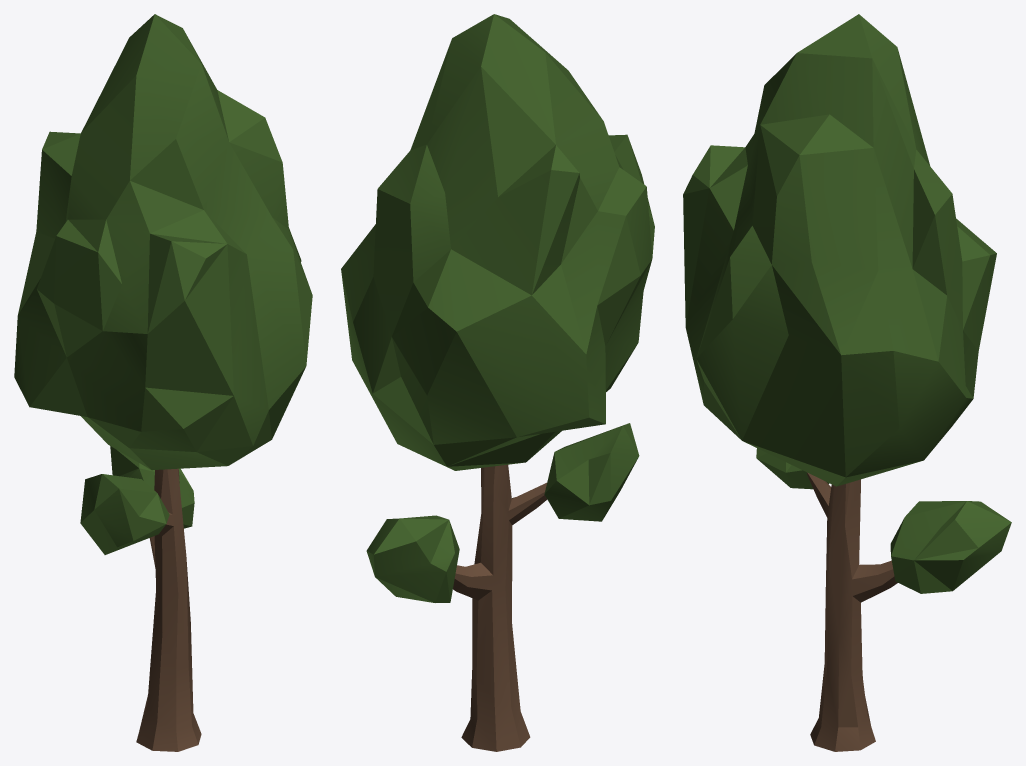
The model's file is BroadleafC.fbx.
3 renders of one model, left to right at view 1: azimuth 30°, elevation 25°; view 2: azimuth 150°, elevation 25°; view 3: azimuth 270°, elevation 25°, orthographic.
Parts seen in each view (by area): view 1: BroadleafC; view 2: BroadleafC; view 3: BroadleafC.
Boxes of the visible parts, x1,y1,x2,y2 form: BroadleafC: (14,14,312,751); BroadleafC: (341,14,654,751); BroadleafC: (683,14,1011,751).
Bounding box in the file's own units: 535 × 1413 × 584.
